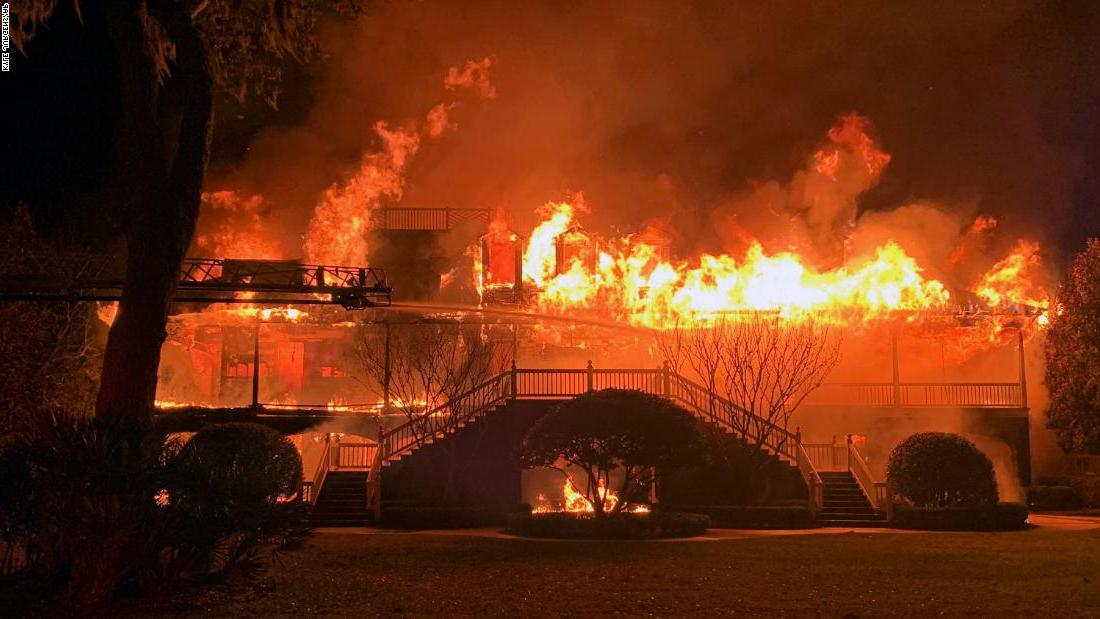Fire: (431, 110, 1057, 344), (170, 43, 506, 338), (531, 474, 596, 515), (371, 393, 447, 421), (597, 476, 618, 516), (260, 391, 298, 412), (157, 395, 197, 410), (325, 395, 353, 414), (630, 504, 654, 515)
